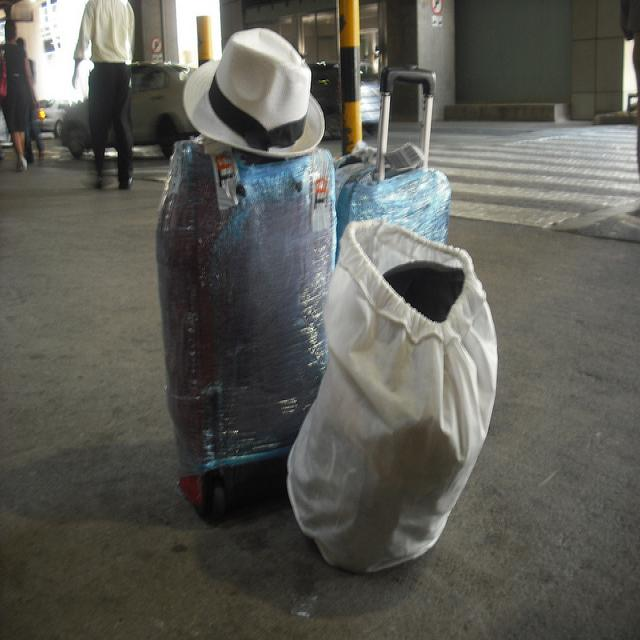Vehicle: (61, 61, 198, 158), (307, 63, 381, 139)
